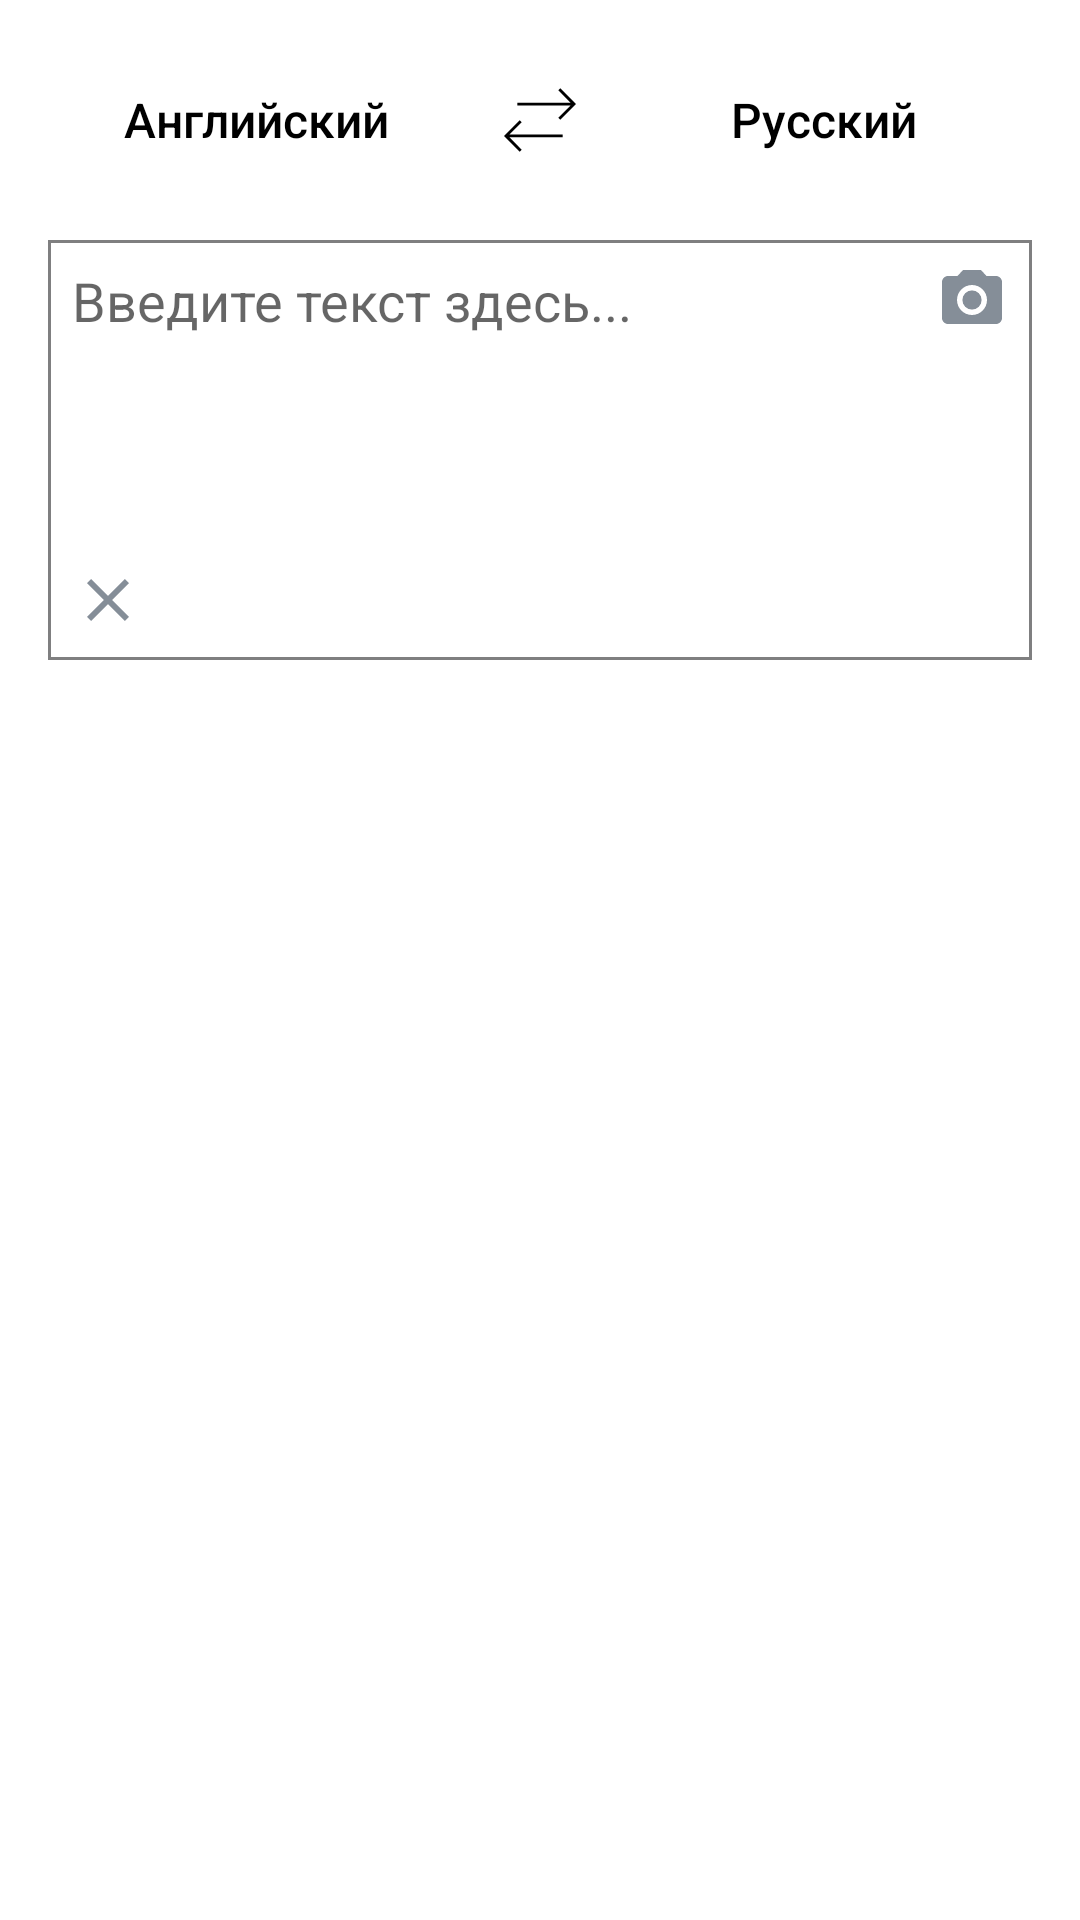

Named icons in this screenshot (1080px x 1920px) and their centers, (x,y):
camera: (972,297)
close: (108,600)
transfer: (540,120)
